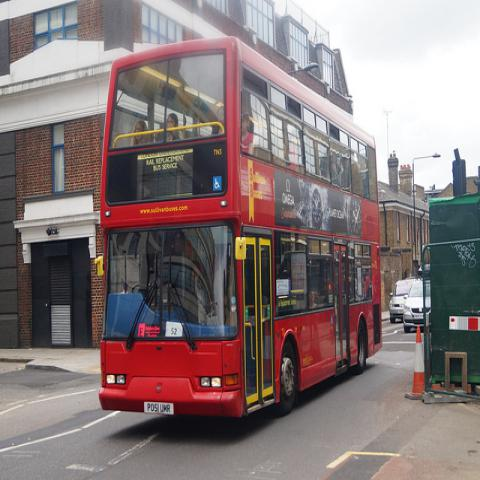bus: (95, 41, 384, 412)
car: (404, 277, 430, 333), (389, 277, 415, 324)
